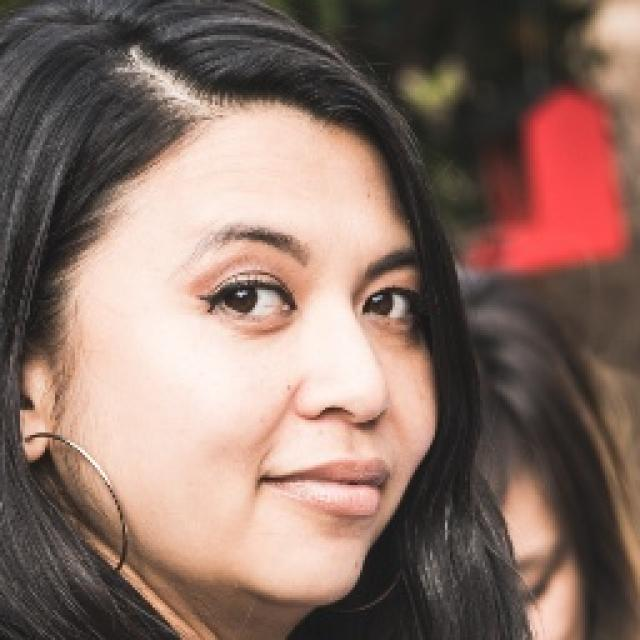earlobe: (9, 409, 54, 465)
eye: (205, 270, 298, 318), (360, 287, 419, 324)
nose: (295, 399, 417, 469)
